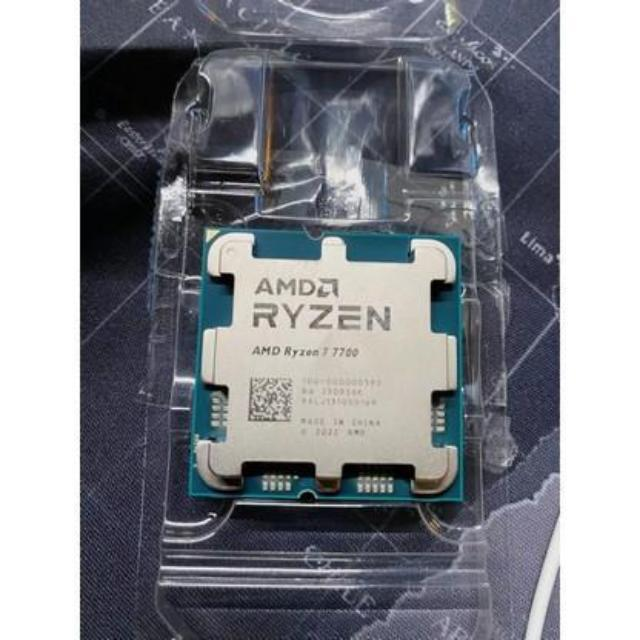CPU: (192, 227, 464, 502)
